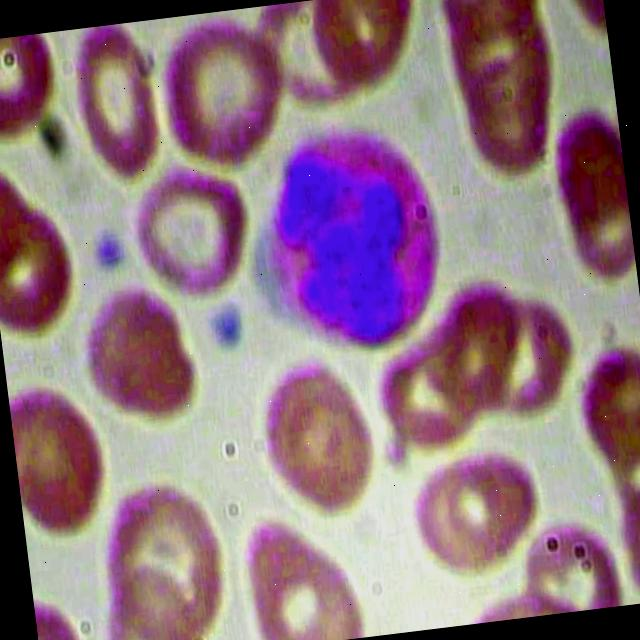Platelets: (198, 296, 259, 365), (90, 230, 125, 274)
RBC: (245, 346, 386, 531), (148, 6, 298, 178), (400, 429, 552, 581), (72, 266, 205, 438), (5, 371, 122, 549), (122, 159, 261, 307), (542, 94, 638, 294), (237, 499, 373, 640), (64, 18, 168, 184), (0, 191, 89, 348), (0, 30, 62, 150)
WBC: (244, 104, 468, 362)
